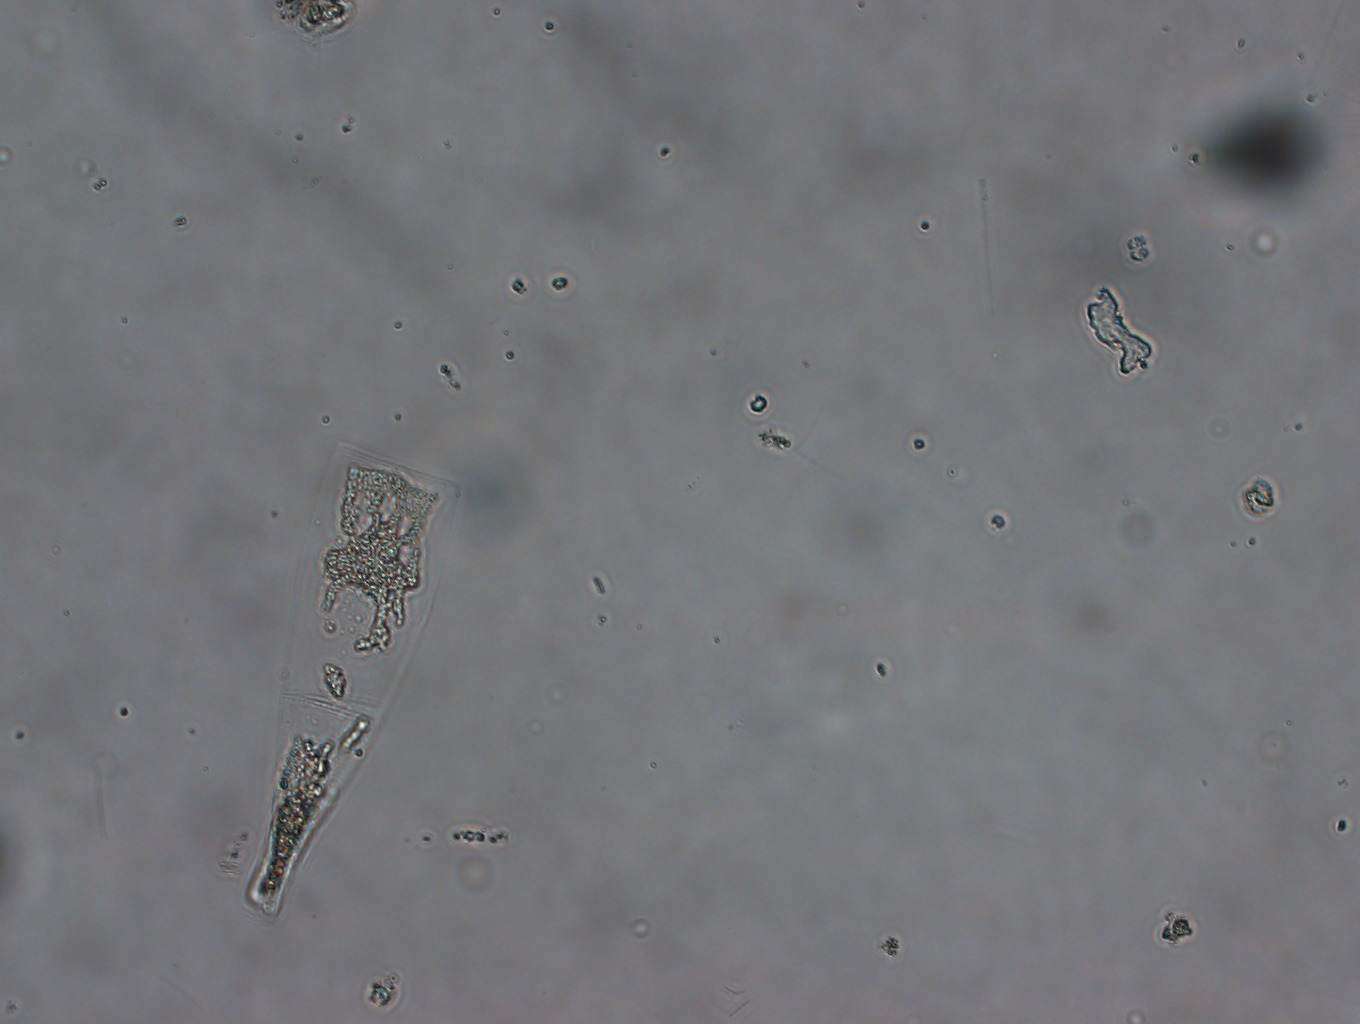helicotheca: (224, 433, 467, 922)
